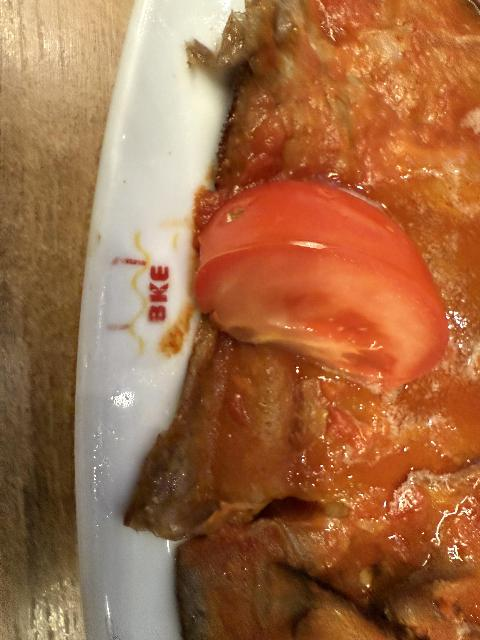Organik: (198, 184, 441, 373), (179, 544, 427, 640)
